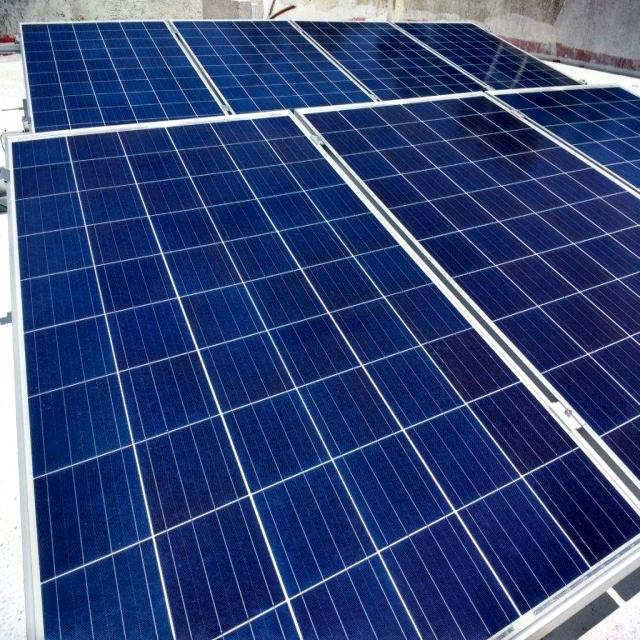crack: (0, 108, 640, 640), (163, 9, 380, 140), (12, 20, 229, 150), (286, 5, 494, 126), (388, 5, 580, 106), (3, 143, 83, 209)
